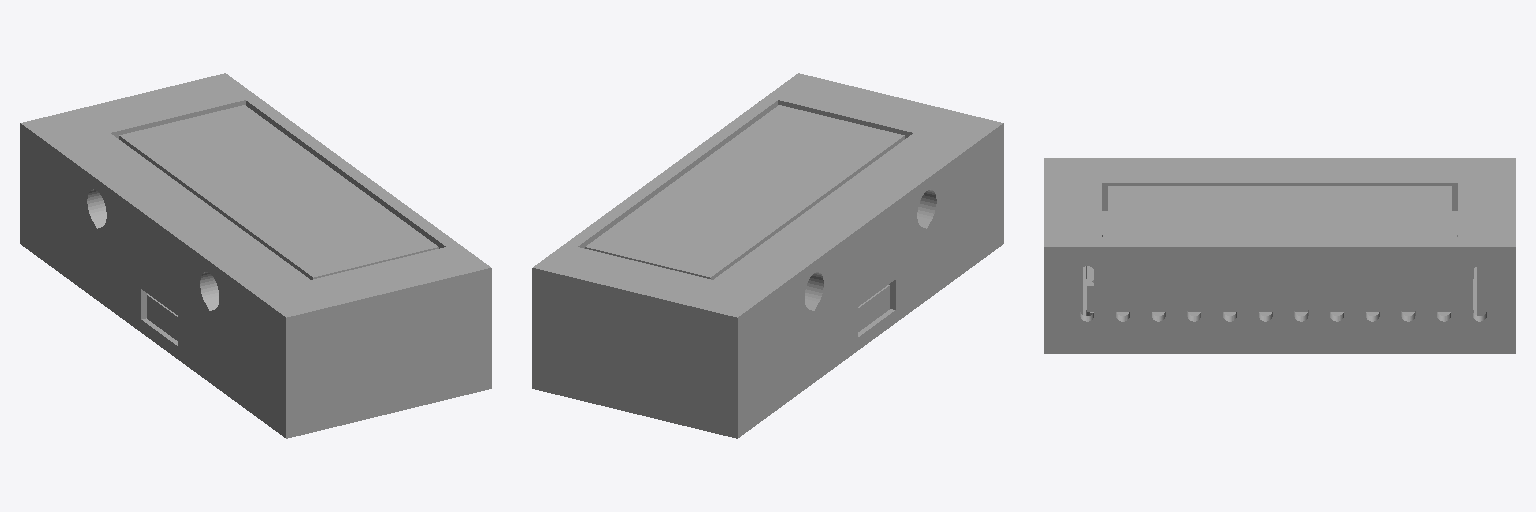
URDF robot description (3DCamera):
<robot name="3DCamera">
  <link name="camera">
  <visual>
      <origin rpy="0 0 0" xyz="0 0 0"/>
      <geometry>
        <mesh filename="../meshes/3DCamera/visual/Camera.STL"/>
      </geometry>
      <material name="LightGrey">
        <color rgba="0.7 0.7 0.7 1.0"/>
      </material>
    </visual>
    <collision>
      <origin rpy="0 0 0" xyz="0 0 0"/>
      <geometry>
        <mesh filename="../meshes/3DCamera/collision/Camera.STL"/>
      </geometry>
       <material name="LightGrey">
        <color rgba="0.7 0.7 0.7 1.0"/>
      </material>
    </collision>
  </link>
</robot>

--- Render facts (derived) ---
Views: 3 orthographic renders of the robot side by side, from view 1: azimuth 30°, elevation 25°; view 2: azimuth 150°, elevation 25°; view 3: azimuth 270°, elevation 25°.
Robot: 3DCamera — 1 links, 0 joints (none); root link camera; default pose: all joints at 0.
Links seen in each view (by area): view 1: camera; view 2: camera; view 3: camera.
Boxes of the visible links, x1,y1,x2,y2 form: camera: (20,73,491,438); camera: (532,73,1003,438); camera: (1044,158,1515,353).
Bounding box of the posed robot: 0.0294 × 0.066 × 0.0166 m (x, y, z).
1 mesh visuals loaded from 1 distinct referenced files (1 binary STL).